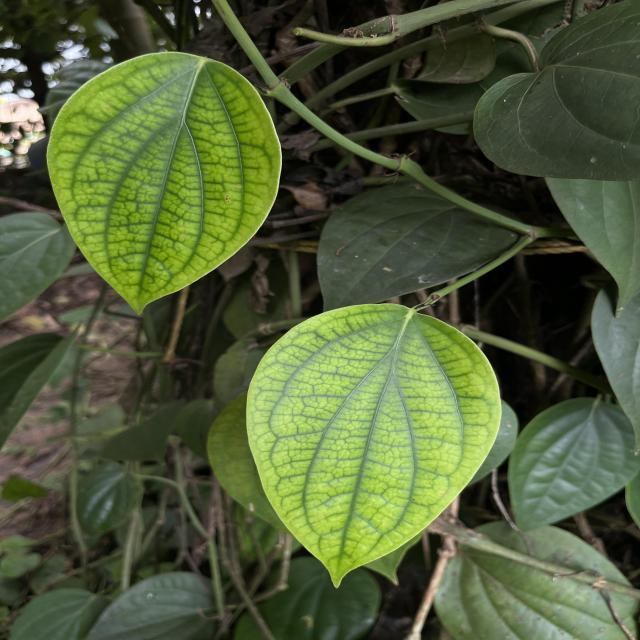Piper nigrum: (242, 302, 505, 591), (44, 49, 284, 315)
